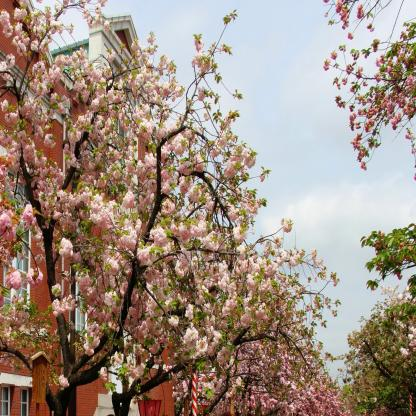YaeSakura: (0, 0, 114, 382), (167, 0, 262, 416), (320, 0, 416, 323), (101, 27, 183, 401), (209, 212, 338, 416), (346, 301, 409, 416), (260, 344, 346, 415), (378, 282, 416, 376)
